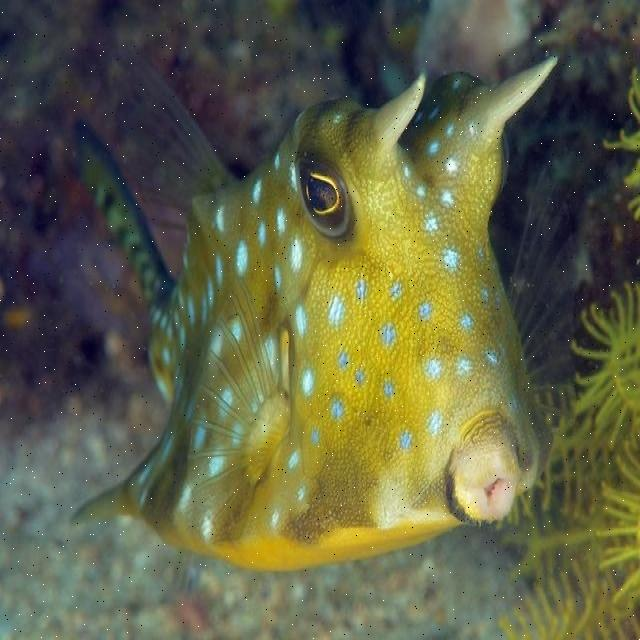aquatic plants: (497, 281, 639, 639)
fish: (71, 42, 577, 575)
